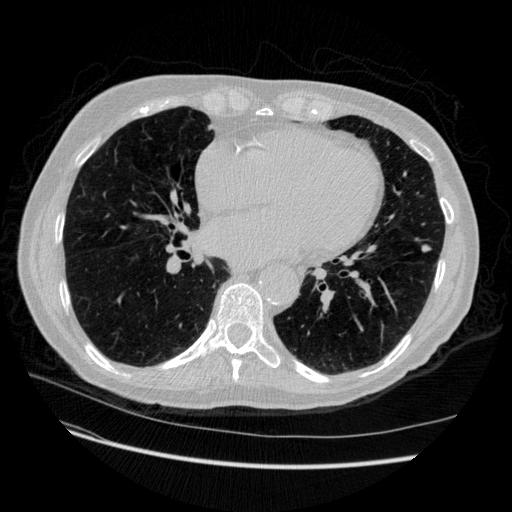nodule: (419, 242, 432, 255)
